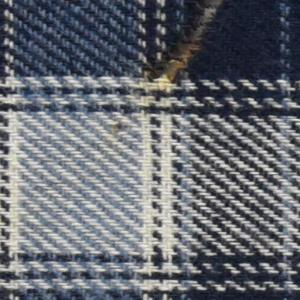Damage: (154, 1, 225, 84)
Oil Stain: (105, 1, 234, 144)
